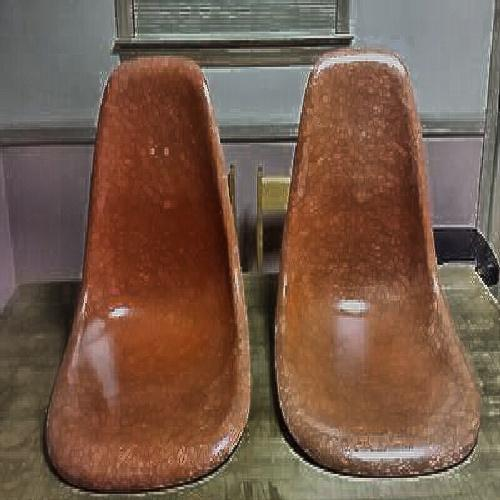chair: (273, 61, 486, 477), (70, 62, 236, 482)
